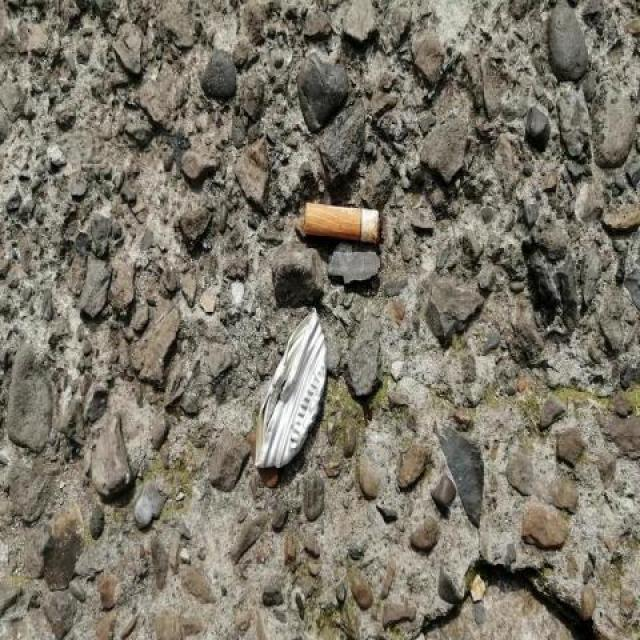non-organic waste: (299, 199, 385, 246)
